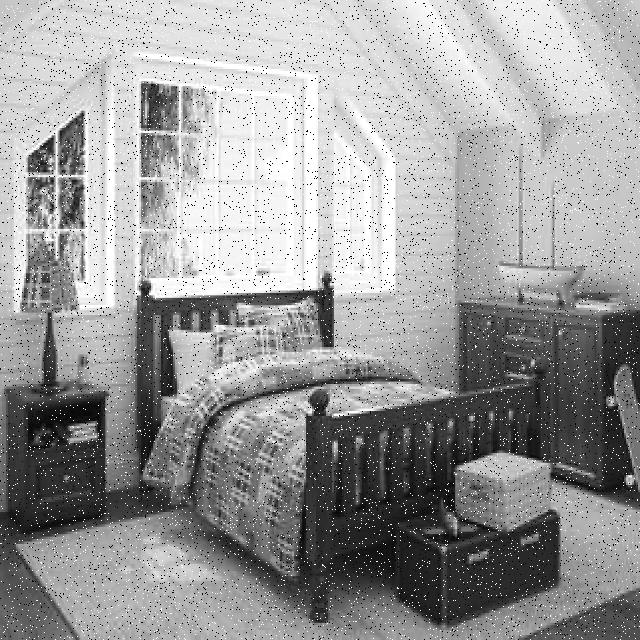bed: (143, 292, 482, 520)
